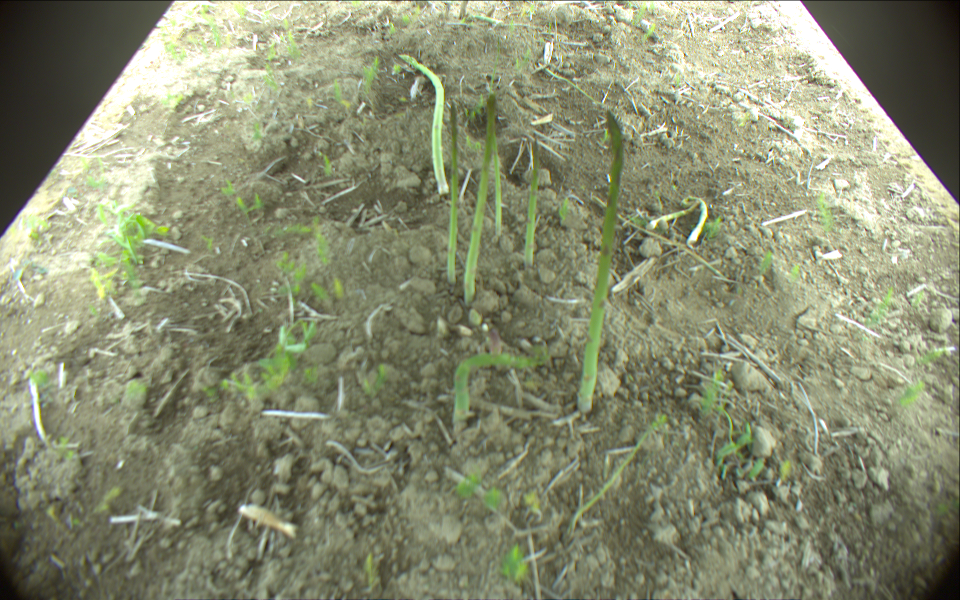aspa: (576, 110, 628, 412), (401, 55, 450, 193), (452, 352, 549, 420), (467, 95, 496, 305), (524, 134, 544, 266), (447, 100, 457, 283), (489, 124, 504, 234), (682, 193, 709, 246), (647, 200, 700, 227)
